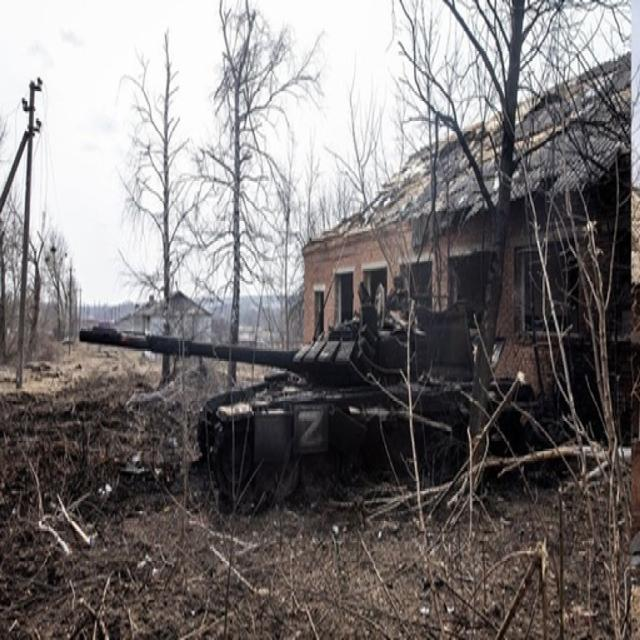TANK: (75, 284, 547, 514)
